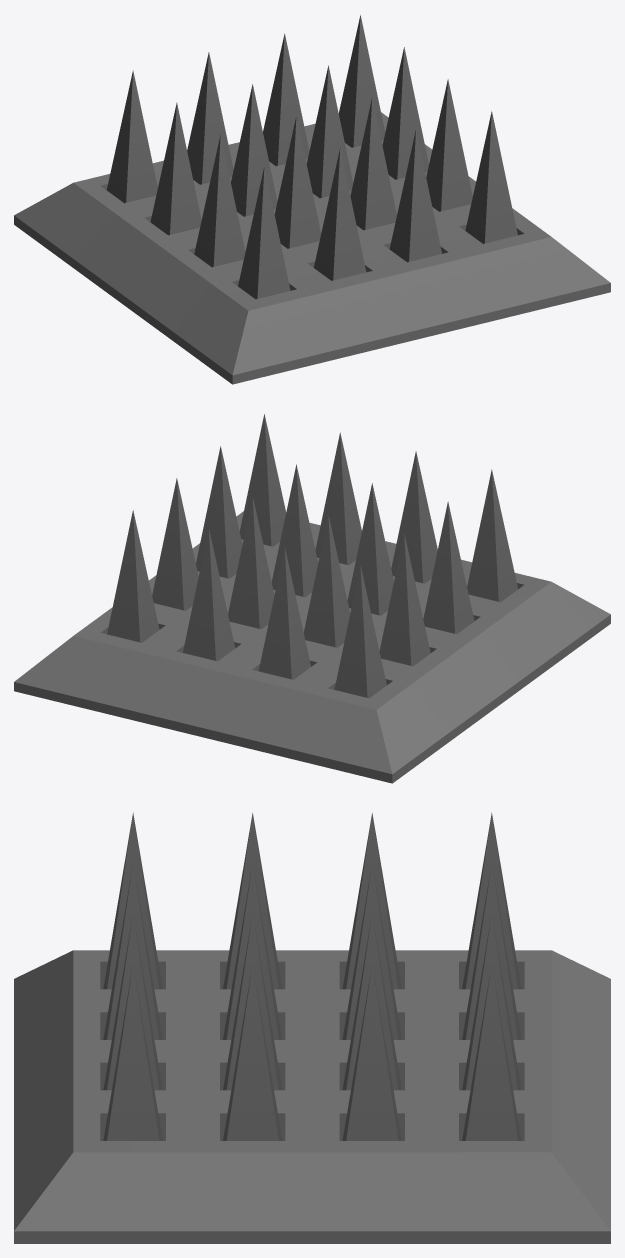
File: Ground_Thorn_Trap_3.fbx
The picture shows the model from 3 angles, top to bottom: view 1: azimuth 30°, elevation 25°; view 2: azimuth 150°, elevation 25°; view 3: azimuth 270°, elevation 25°; orthographic projection. The views are drawn at different scales.
Visible parts, largest first — view 1: Ground_Thorn_Trap_3, Ground_Thorn_Trap_3_Thorns; view 2: Ground_Thorn_Trap_3, Ground_Thorn_Trap_3_Thorns; view 3: Ground_Thorn_Trap_3, Ground_Thorn_Trap_3_Thorns.
Boxes of the visible parts, x1,y1,x2,y2 form: Ground_Thorn_Trap_3: (14, 112, 610, 384); Ground_Thorn_Trap_3_Thorns: (107, 15, 517, 299); Ground_Thorn_Trap_3: (14, 511, 610, 783); Ground_Thorn_Trap_3_Thorns: (107, 414, 517, 698); Ground_Thorn_Trap_3: (14, 950, 610, 1243); Ground_Thorn_Trap_3_Thorns: (103, 812, 521, 1140).
Bounding box in the file's own units: 82.9 × 35.23 × 82.9.
1 material, 1 textured.
